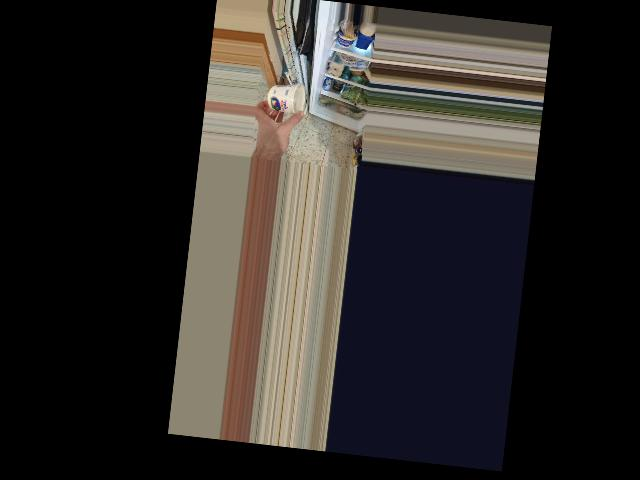cotage: (266, 82, 310, 115)
